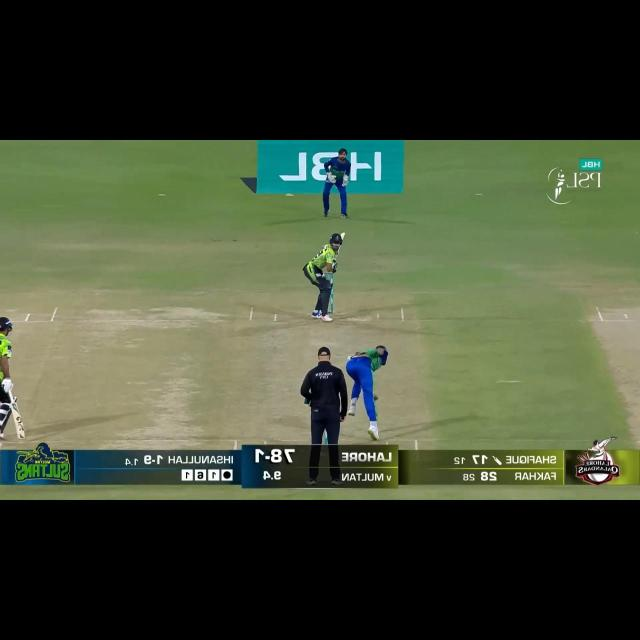bat: (9, 402, 29, 441), (330, 232, 348, 268)
toe: (14, 429, 27, 440), (340, 228, 346, 242)
